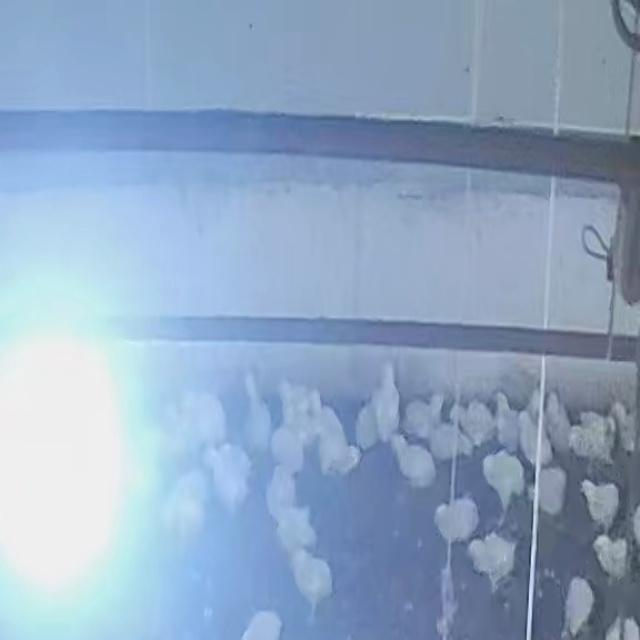chicken: (200, 442, 255, 517), (465, 530, 518, 596), (572, 409, 627, 468), (288, 547, 337, 612), (519, 390, 560, 463), (390, 434, 444, 489), (241, 370, 274, 457), (488, 457, 528, 522), (431, 496, 481, 546), (588, 533, 636, 584), (275, 509, 325, 557), (581, 476, 625, 530), (261, 464, 299, 517), (318, 428, 357, 479), (274, 430, 312, 480), (530, 471, 570, 517), (562, 575, 591, 637), (311, 393, 350, 439), (452, 404, 498, 441), (493, 392, 520, 454), (433, 428, 477, 466), (406, 393, 442, 439), (380, 366, 399, 441), (239, 609, 284, 640)
